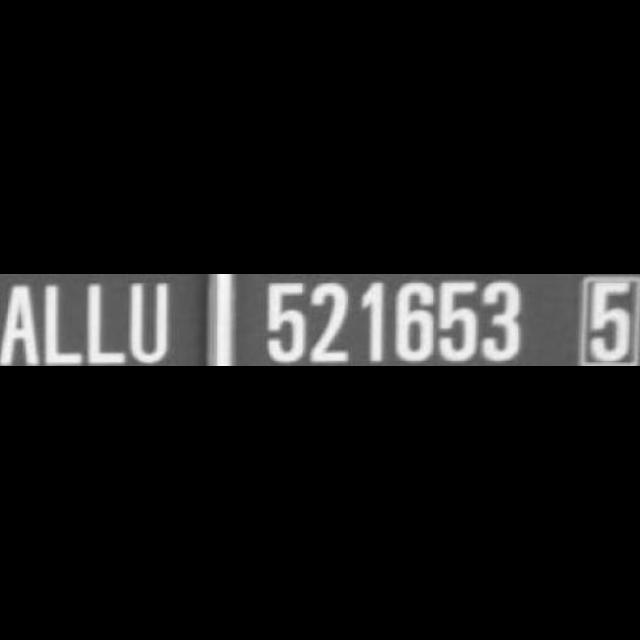1: (359, 277, 389, 367)
2: (312, 279, 354, 367)
3: (481, 275, 525, 367)
5: (584, 278, 634, 364), (264, 279, 308, 367), (436, 276, 478, 366)
6: (392, 276, 436, 366)
a: (1, 278, 42, 366)
l: (85, 279, 128, 367), (42, 279, 84, 367)
u: (130, 279, 174, 367)
